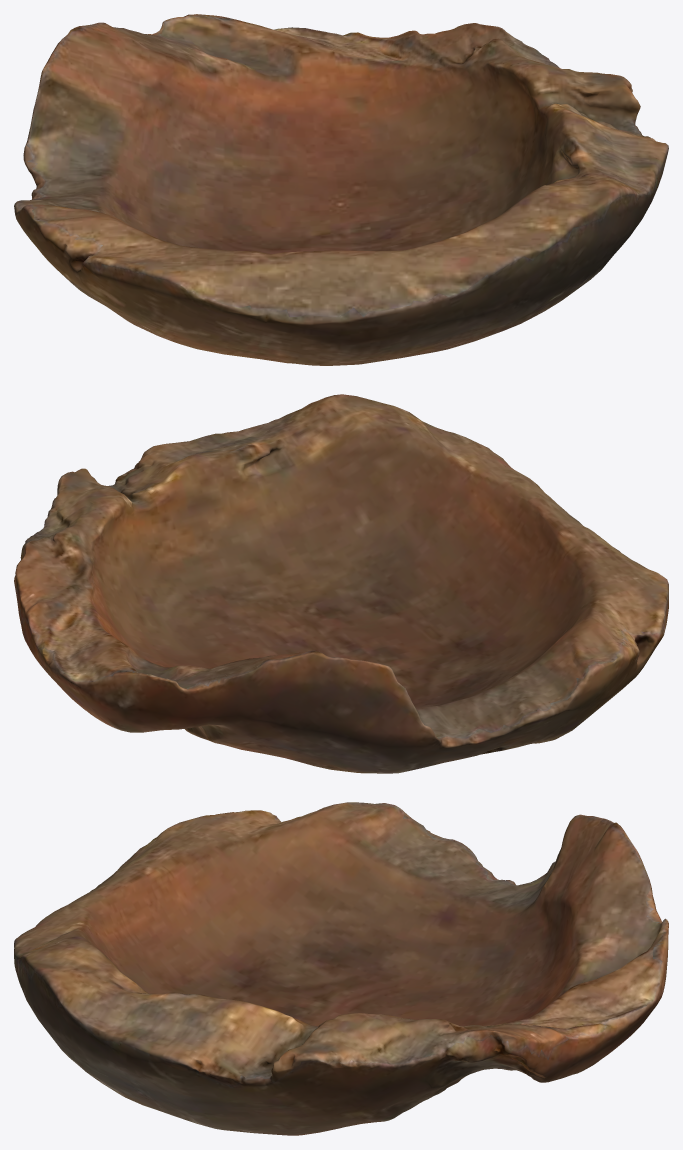
The model's file is wooden_bowl_01.glb.
3 renders of one model, top to bottom at view 1: azimuth 30°, elevation 25°; view 2: azimuth 150°, elevation 25°; view 3: azimuth 270°, elevation 25°, orthographic. The views are drawn at different scales.
Visible parts, largest first — view 1: wooden_bowl_01; view 2: wooden_bowl_01; view 3: wooden_bowl_01.
Boxes of the visible parts, x1,y1,x2,y2 form: wooden_bowl_01: [14, 14, 668, 365]; wooden_bowl_01: [14, 394, 668, 773]; wooden_bowl_01: [14, 802, 668, 1135].
Bounding box in the file's own units: 0.3131 × 0.0937 × 0.3091.
1 material, 1 textured.
